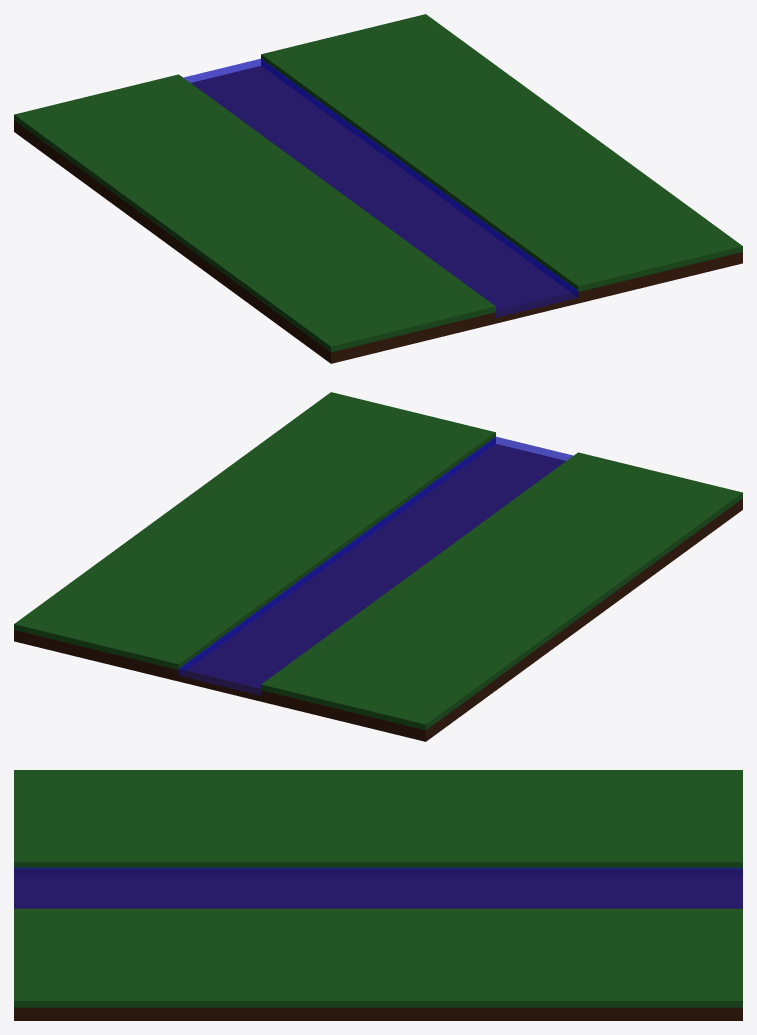
The model's file is Straight River.FBX.
The picture shows the model from 3 angles, top to bottom: view 1: azimuth 30°, elevation 25°; view 2: azimuth 150°, elevation 25°; view 3: azimuth 270°, elevation 25°; orthographic projection. The views are drawn at different scales.
Parts seen in each view (by area): view 1: Grass, Ground, Water; view 2: Grass, Ground, Water; view 3: Grass, Ground, Water.
Boxes of the visible parts, left/top/right/bottom form: Grass: left=14, top=14, right=742, bottom=352; Ground: left=14, top=60, right=742, bottom=363; Water: left=183, top=58, right=578, bottom=317; Grass: left=14, top=392, right=742, bottom=730; Ground: left=14, top=438, right=742, bottom=741; Water: left=178, top=436, right=573, bottom=695; Grass: left=14, top=770, right=742, bottom=1007; Ground: left=14, top=869, right=742, bottom=1020; Water: left=14, top=867, right=742, bottom=908.
Bounding box in the file's own units: 150 × 6 × 200.
